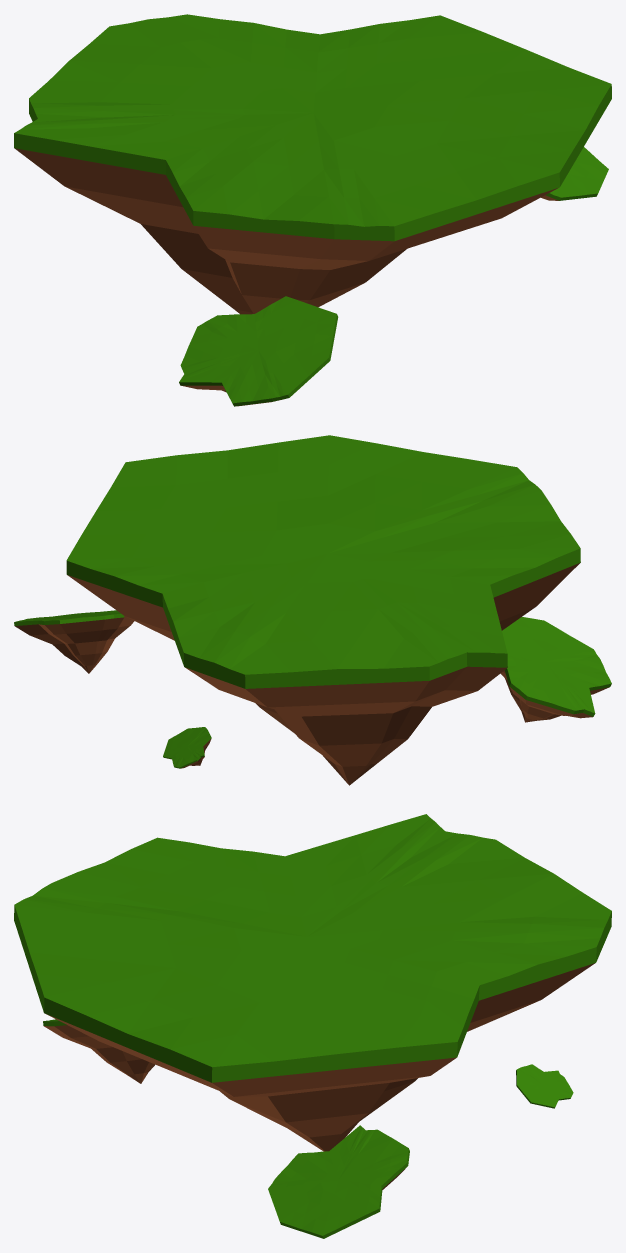
Rendered from island.glb.
3 views of the same model, one above another, from view 1: azimuth 30°, elevation 25°; view 2: azimuth 150°, elevation 25°; view 3: azimuth 270°, elevation 25° (orthographic). The views are drawn at different scales.
Parts seen in each view (by area): view 1: Plane.002; view 2: Plane.002; view 3: Plane.002.
Boxes of the visible parts, x1,y1,x2,y2 form: Plane.002: (14,14,611,406); Plane.002: (14,435,611,785); Plane.002: (14,814,611,1238).
Size of the model in its own units: 2.55 by 1.01 by 2.29.
